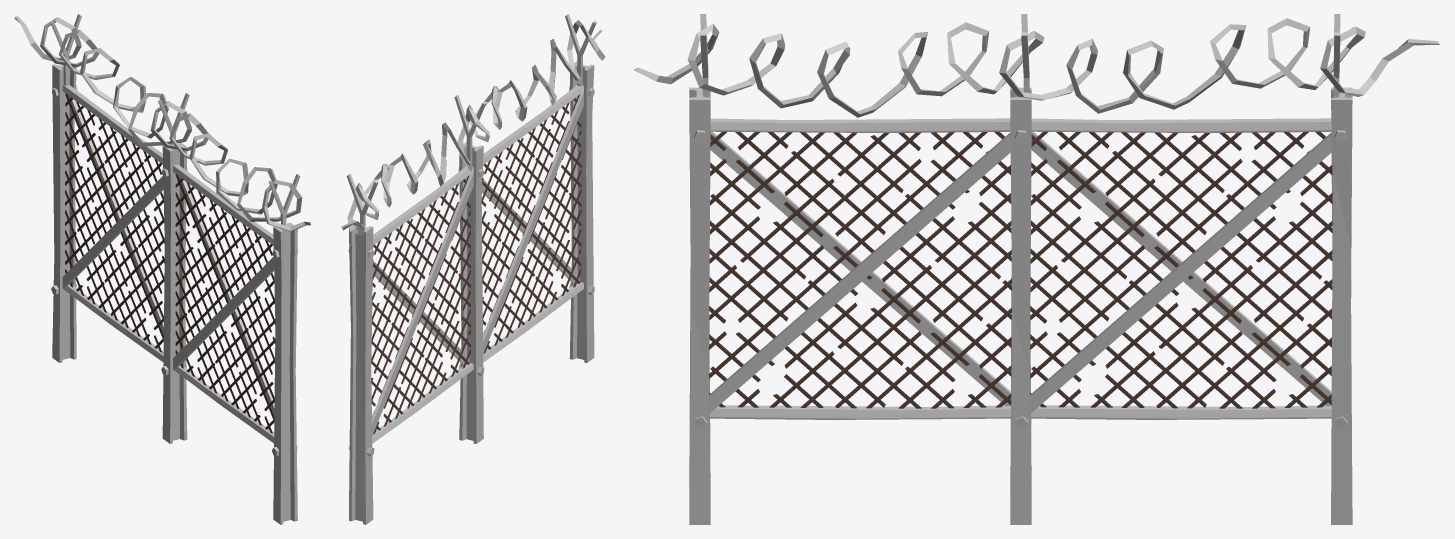
The model's file is SM_Prop_Wall_Wire_Preset_02.fbx.
3 renders of one model, left to right at view 1: azimuth 30°, elevation 25°; view 2: azimuth 150°, elevation 25°; view 3: azimuth 270°, elevation 25°, orthographic. The views are drawn at different scales.
Parts seen in each view (by area): view 1: SM_Prop_Wall_Wire_Preset_02; view 2: SM_Prop_Wall_Wire_Preset_02; view 3: SM_Prop_Wall_Wire_Preset_02.
Boxes of the visible parts, x1,y1,x2,y2 form: SM_Prop_Wall_Wire_Preset_02: (14,14,312,524); SM_Prop_Wall_Wire_Preset_02: (341,14,605,524); SM_Prop_Wall_Wire_Preset_02: (634,14,1440,524).
Bounding box in the file's own units: 39.31 × 334 × 490.
